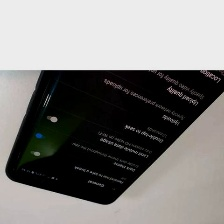phone: (2, 19, 223, 207)
